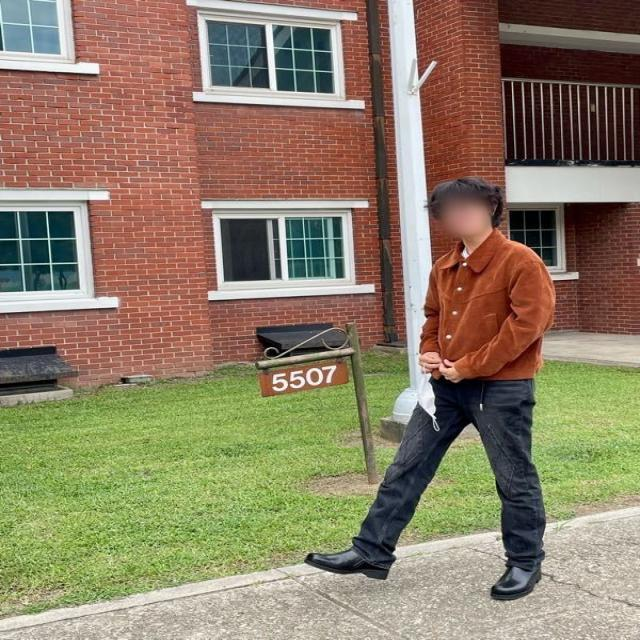denimpants: (347, 368, 546, 572)
jacket: (415, 230, 553, 382)
